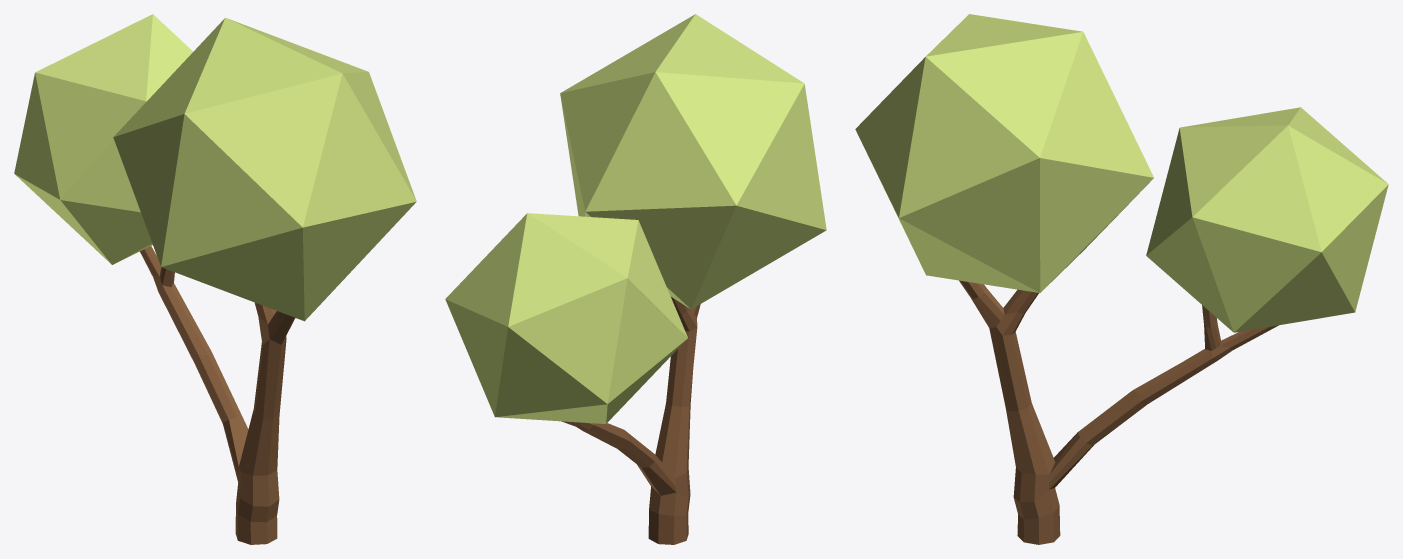
Rendered from tree3.glb.
The picture shows the model from 3 angles, left to right: view 1: azimuth 30°, elevation 25°; view 2: azimuth 150°, elevation 25°; view 3: azimuth 270°, elevation 25°; orthographic projection. The views are drawn at different scales.
Visible parts, largest first — view 1: Tree3; view 2: Tree3; view 3: Tree3.
Boxes of the visible parts, x1,y1,x2,y2 form: Tree3: (14,14,416,544); Tree3: (445,14,826,544); Tree3: (855,14,1388,544).
Bounding box in the file's own units: 2.06 × 4.08 × 3.95.
